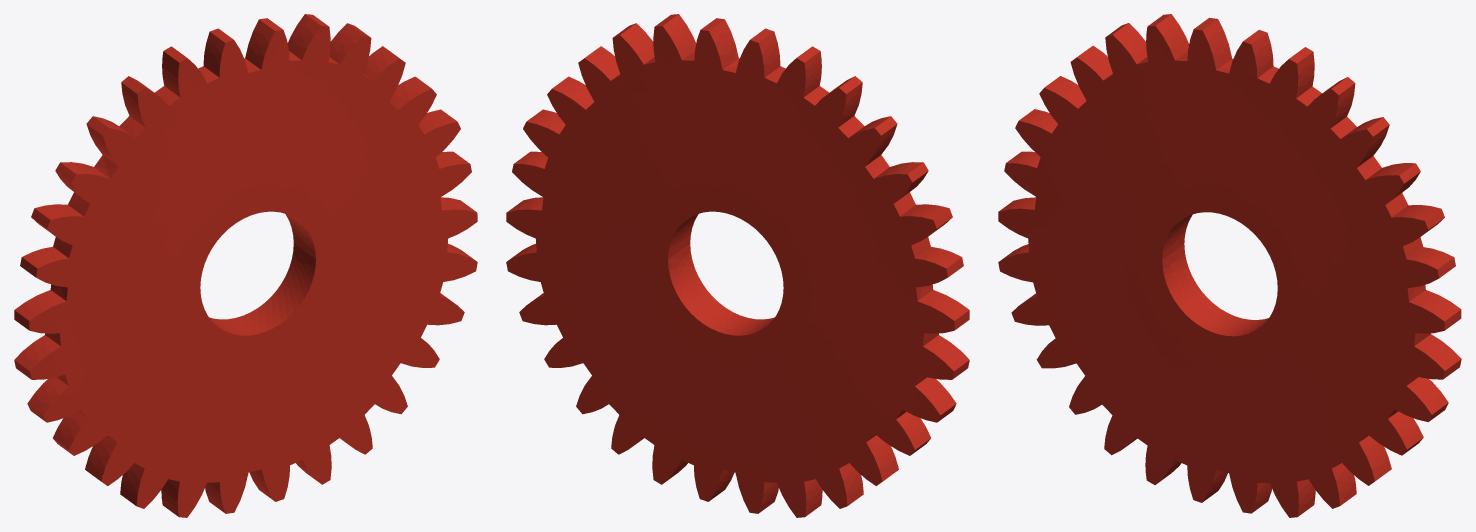
The model's file is gear.obj.
The picture shows the model from 3 angles, left to right: view 1: azimuth 30°, elevation 25°; view 2: azimuth 150°, elevation 25°; view 3: azimuth 330°, elevation 25°; orthographic projection.
Bounding box in the file's own units: 0.0581 × 0.0586 × 0.005.
